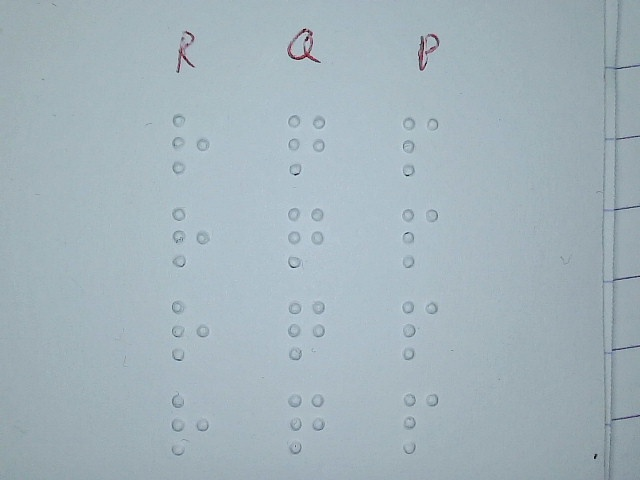P: (399, 114, 442, 178), (399, 204, 442, 268), (399, 298, 442, 362), (399, 390, 442, 454)
Q: (284, 112, 327, 176), (284, 205, 327, 269), (285, 297, 328, 361), (286, 391, 329, 455)
R: (169, 112, 212, 176), (169, 205, 212, 269), (169, 297, 212, 361), (169, 392, 212, 456)
